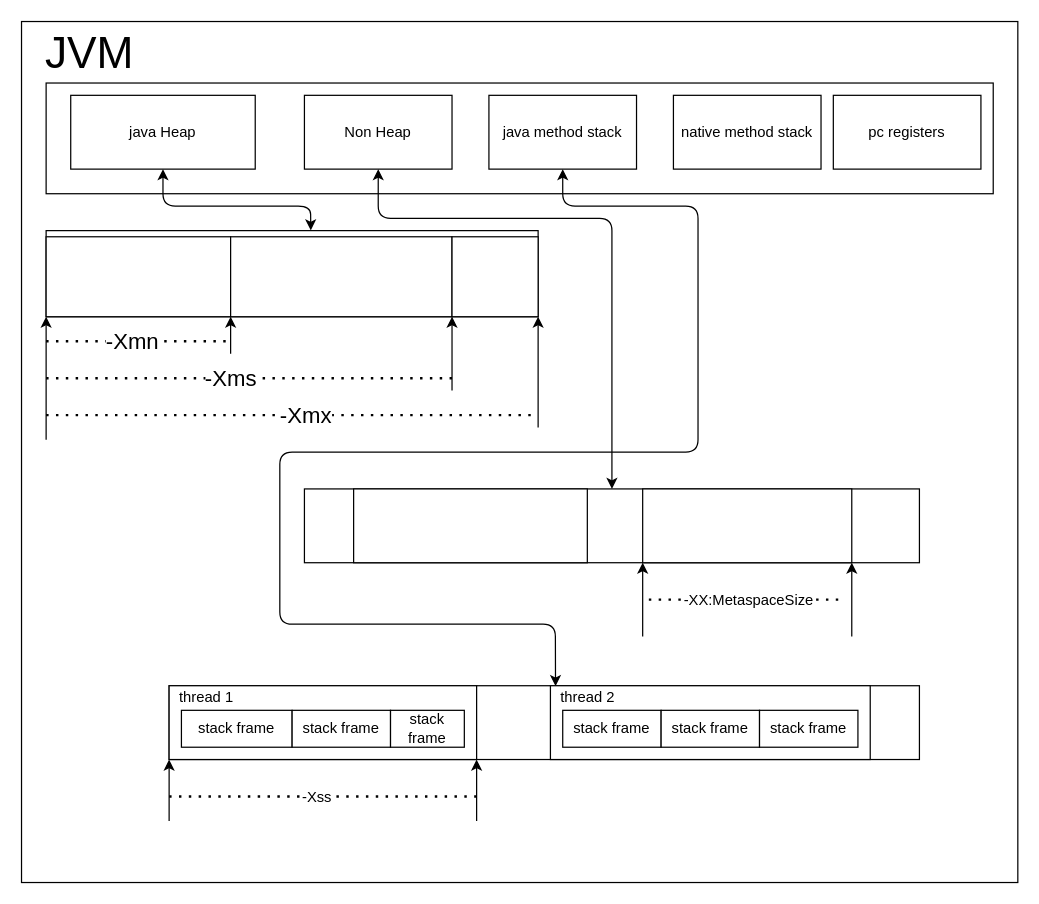
The diagram is 1039 pixels wide and 904 high, and some of its shapes have lost their labels. Here are the shapes that lost their labels. From the top down, the box of each, then its label:
(45, 236, 231, 317): yong
(229, 236, 452, 317): Old
(451, 236, 538, 317): reserved
(352, 488, 587, 563): method area
(641, 488, 852, 563): Direct Memory
